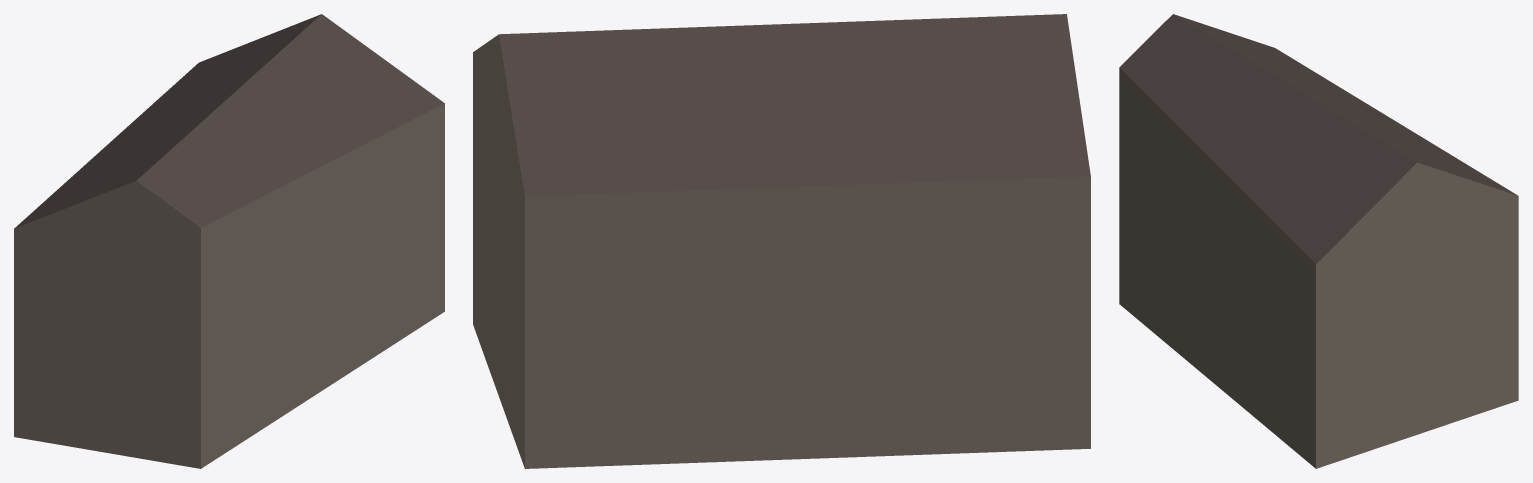
The picture shows the model from 3 angles, left to right: view 1: azimuth 30°, elevation 25°; view 2: azimuth 150°, elevation 25°; view 3: azimuth 270°, elevation 25°; orthographic projection. The views are drawn at different scales.
Visible parts, largest first — view 1: HP-w1204348317; view 2: HP-w1204348317; view 3: HP-w1204348317.
Boxes of the visible parts, x1=… form: HP-w1204348317: x1=14, y1=14, x2=444, y2=468; HP-w1204348317: x1=473, y1=14, x2=1090, y2=468; HP-w1204348317: x1=1119, y1=14, x2=1518, y2=468.
Bounding box in the file's own units: 13.62 × 7.99 × 10.62.
